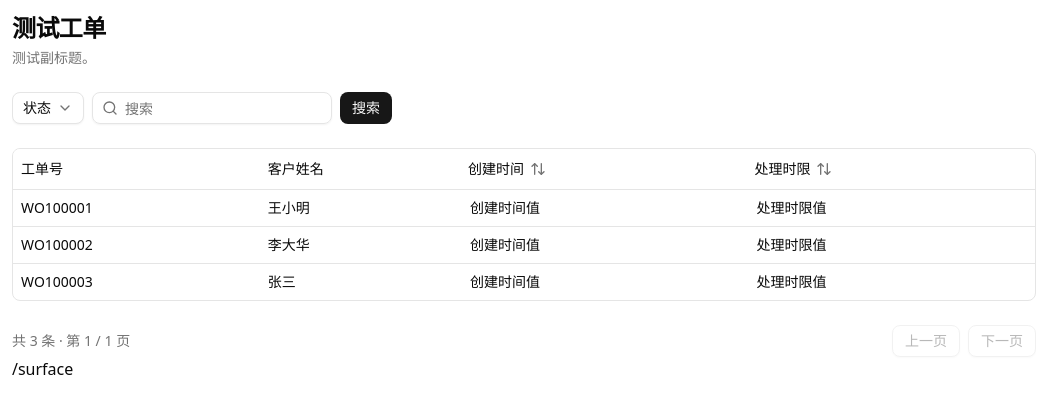
URL 筛选态 › 点「搜索」按钮与回车等效提交
Step 1. Type "三丰" into the search field → (212, 108), box [92,92,332,124]
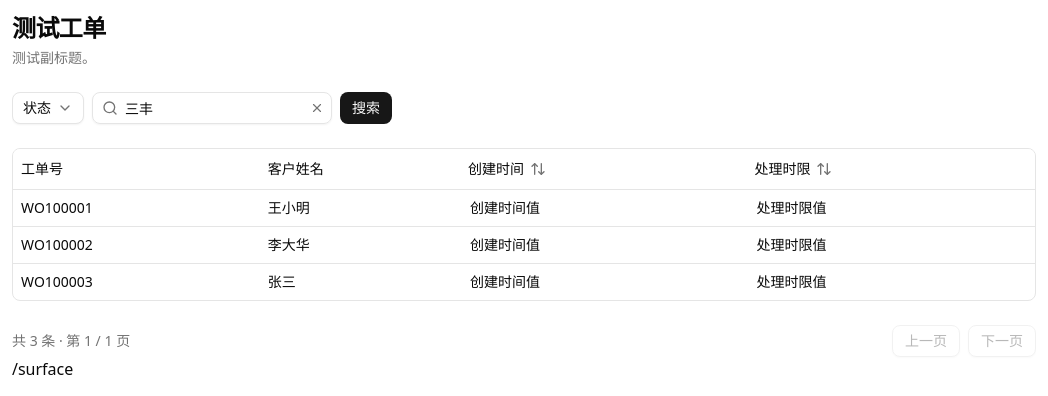
Step 2. Click the button "搜索" → (366, 108), box [340,92,392,124]
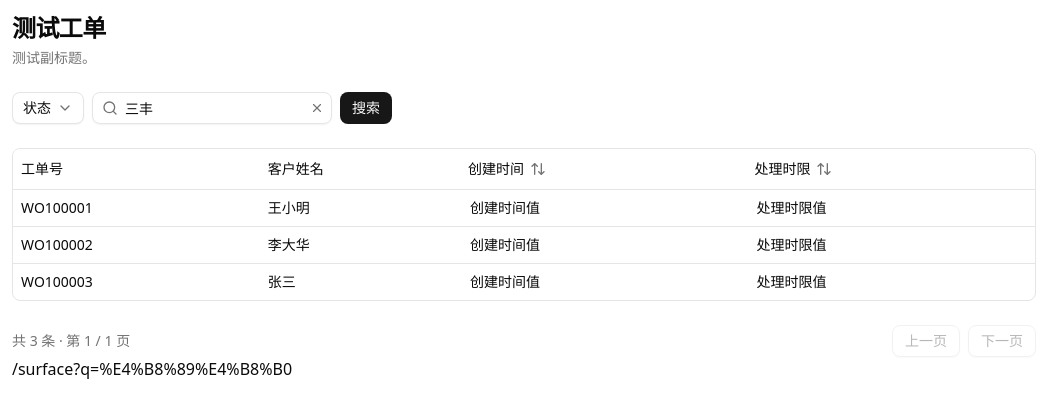
Result: the text with test id "location" reads "/surface?q=%E4%B8%89%E4%B8%B0" at [12,358,292,380]
